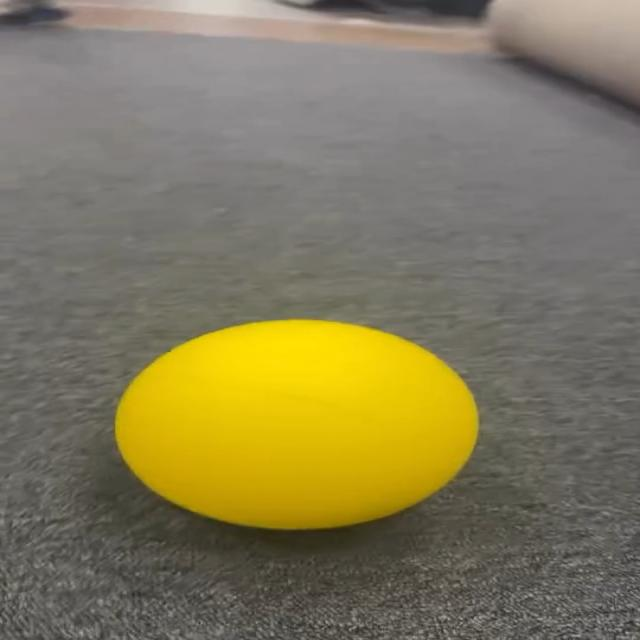Fuels: (115, 320, 474, 527)
